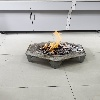fire: (42, 30, 67, 55)
